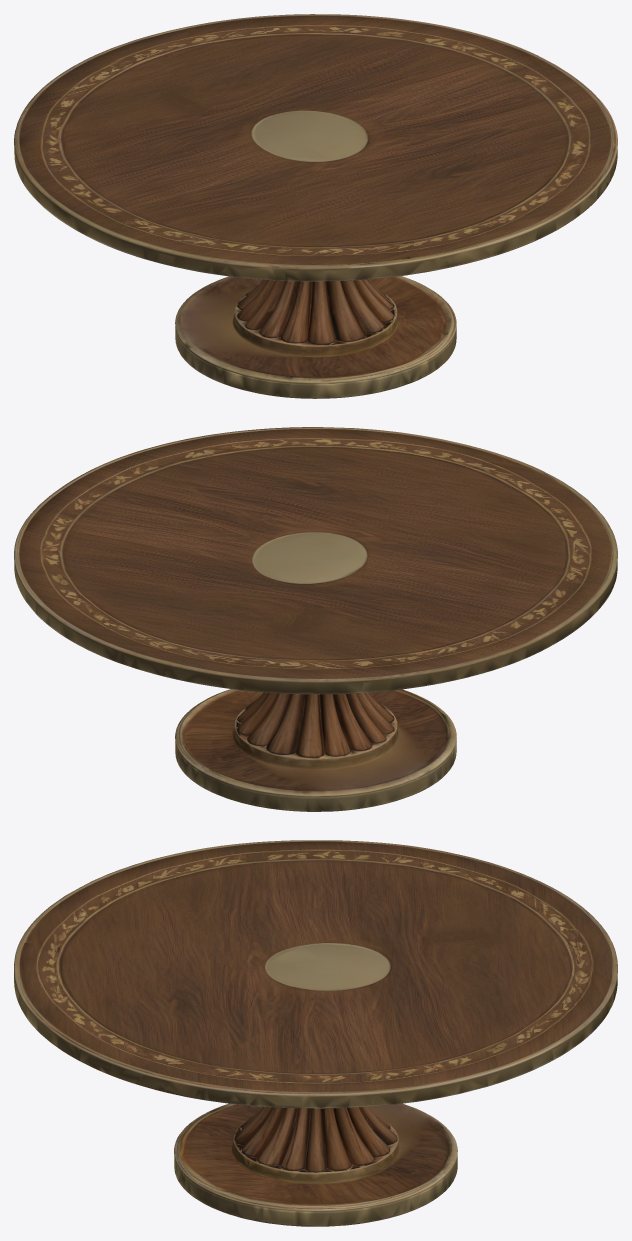
File: table-v1.glb
3 renders of one model, top to bottom at view 1: azimuth 30°, elevation 25°; view 2: azimuth 150°, elevation 25°; view 3: azimuth 270°, elevation 25°, orthographic.
Parts seen in each view (by area): view 1: table metre normalization; view 2: table metre normalization; view 3: table metre normalization.
Part boxes in pixels (x1,y1,x2,y2): table metre normalization: (14,14,617,398); table metre normalization: (14,427,617,811); table metre normalization: (14,840,617,1226).
Bounding box in the file's own units: 2.24 × 0.825 × 2.24.
Materials: 1 (1 with a texture image).
